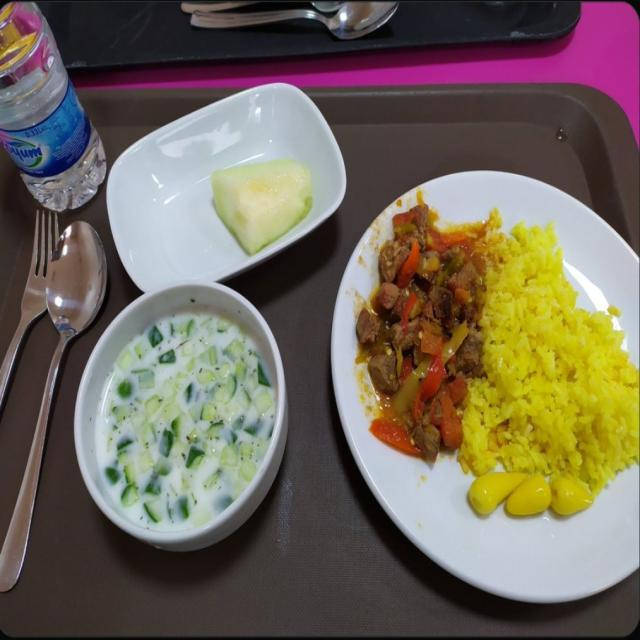ana_yemek: (330, 172, 634, 602)
corba: (72, 278, 281, 548)
